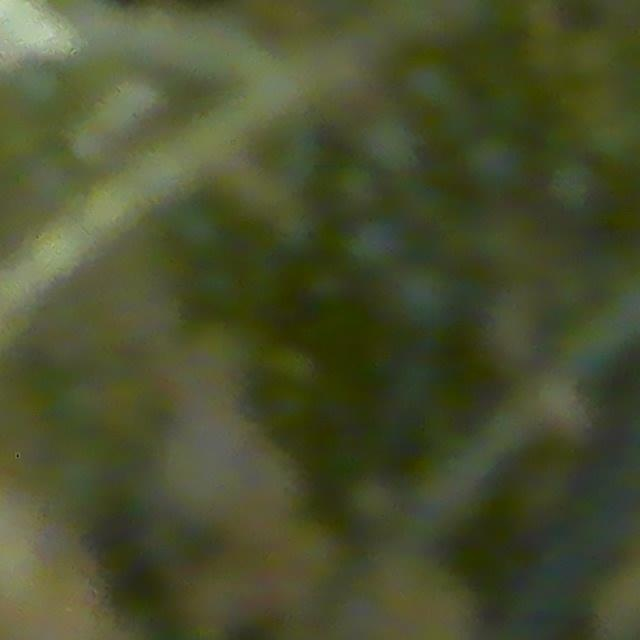SeaGrape: (456, 129, 532, 196), (4, 56, 70, 121), (357, 110, 420, 175), (343, 214, 409, 275), (400, 55, 464, 114), (553, 148, 607, 211), (394, 268, 453, 325), (327, 160, 382, 215)
